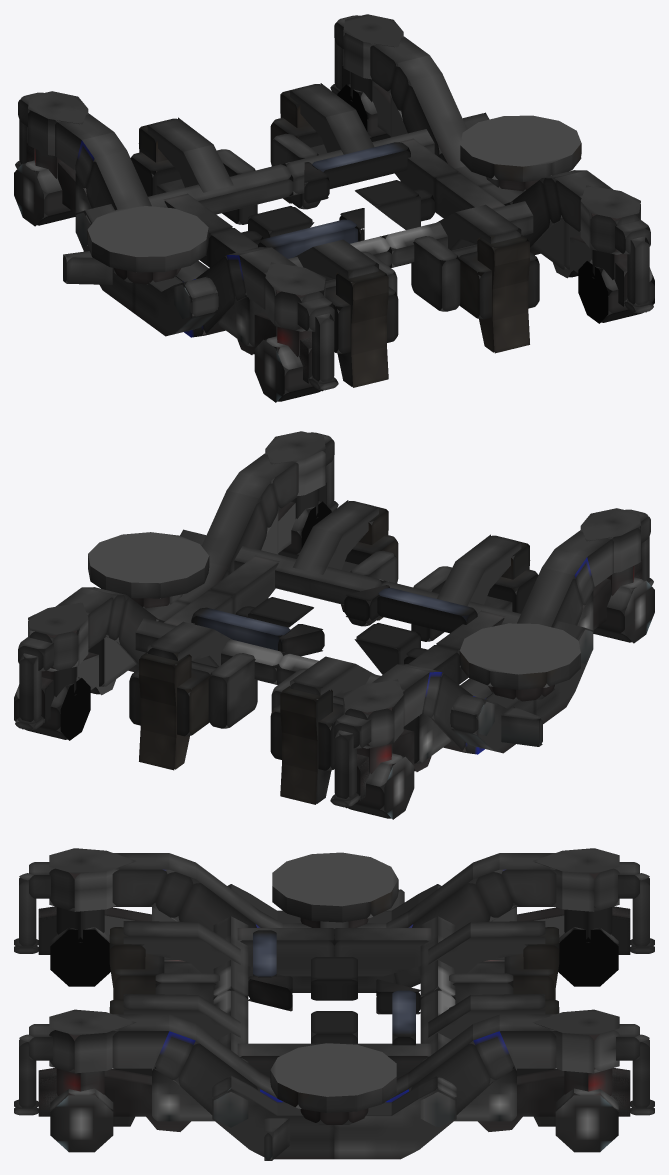
Rendered from sw160_frame.obj.
3 renders of one model, top to bottom at view 1: azimuth 30°, elevation 25°; view 2: azimuth 150°, elevation 25°; view 3: azimuth 270°, elevation 25°, orthographic. The views are drawn at different scales.
Parts seen in each view (by area): view 1: frame_air_spring_lower; view 2: frame_air_spring_lower; view 3: frame_air_spring_lower.
Part boxes in pixels (left/top/right/bottom): frame_air_spring_lower: left=14, top=14, right=654, bottom=402; frame_air_spring_lower: left=14, top=431, right=654, bottom=819; frame_air_spring_lower: left=14, top=848, right=654, bottom=1160.
Bounding box in the file's own units: 2.93 × 0.7812 × 3.25.
